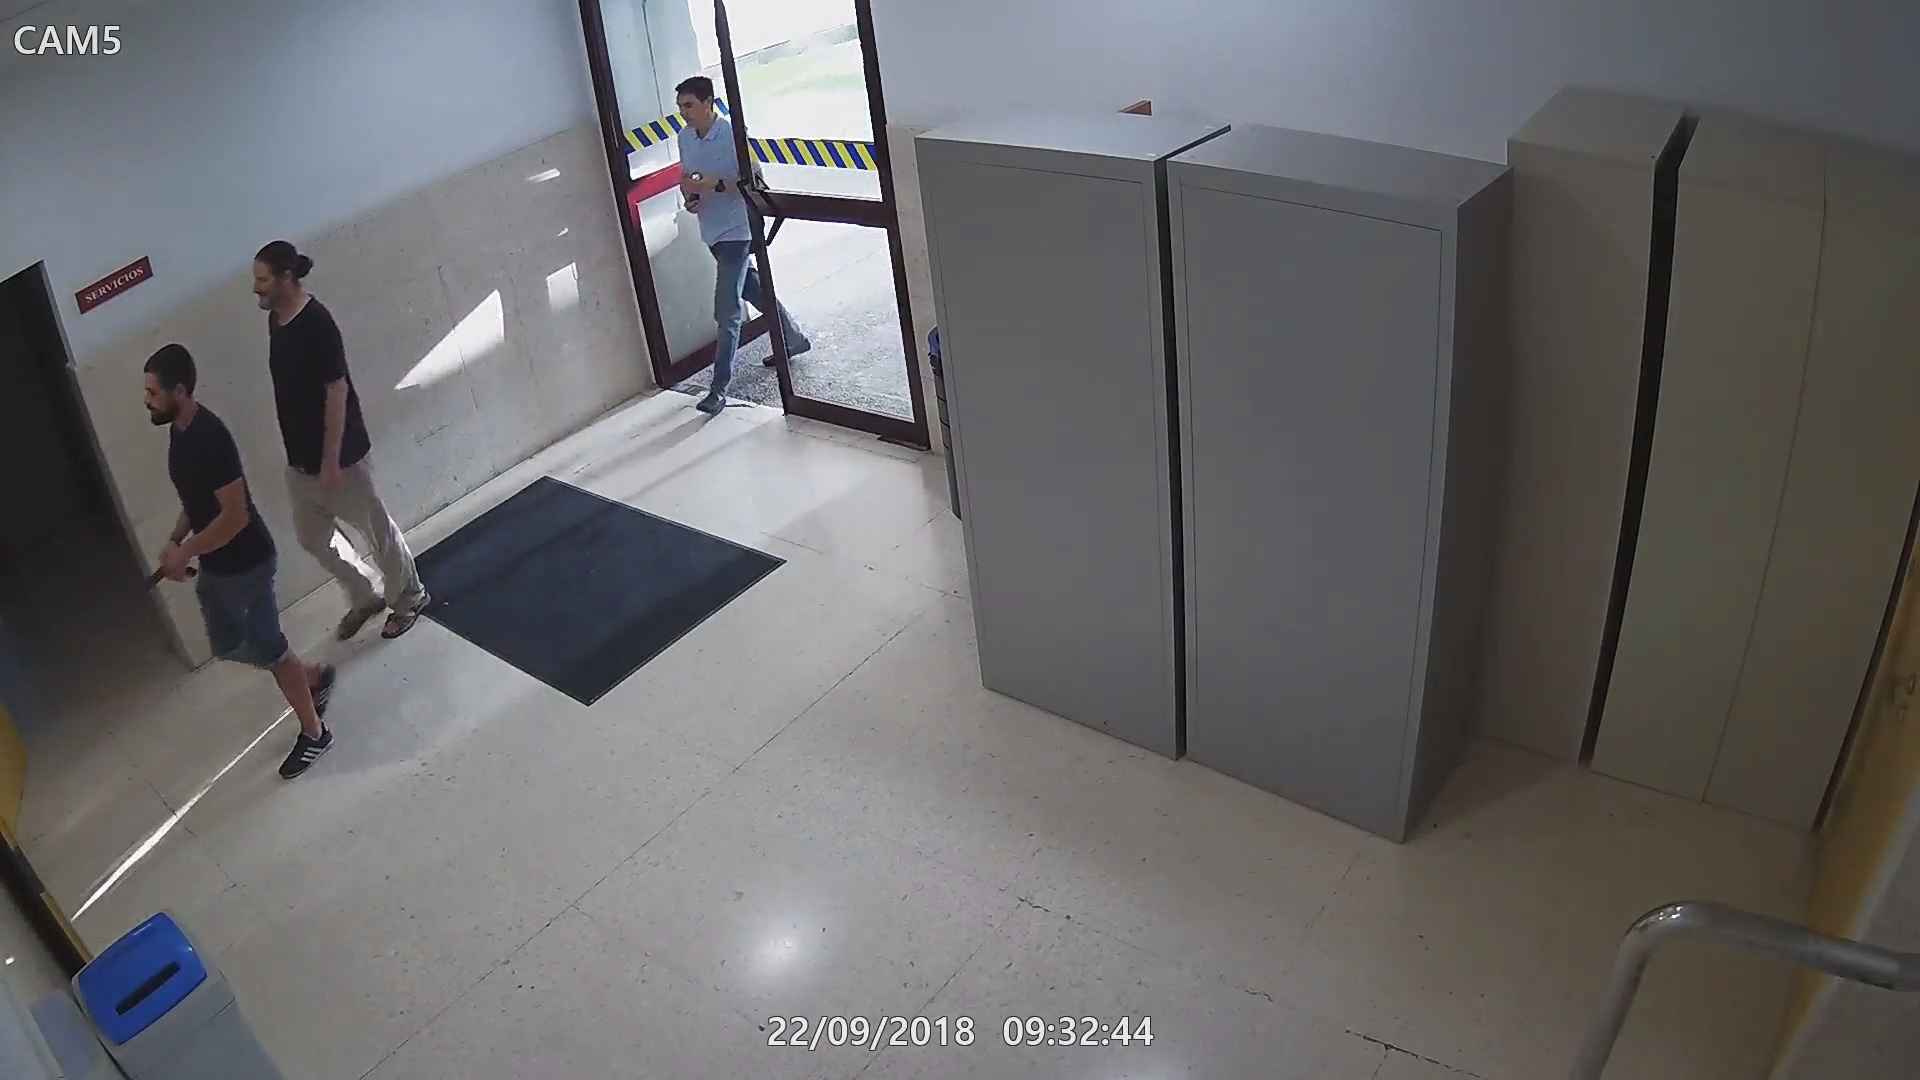Handgun: (141, 553, 198, 603)
